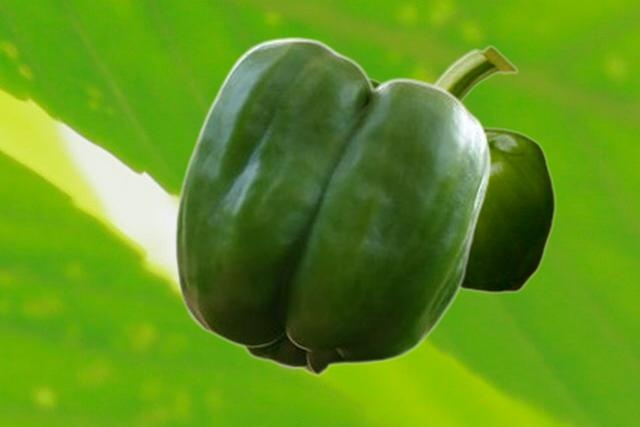bell_pepper: (173, 36, 490, 375), (369, 45, 555, 296)
